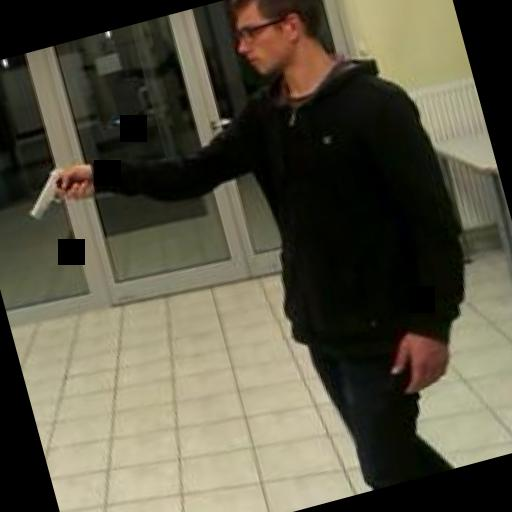Handgun: (14, 158, 88, 220)
